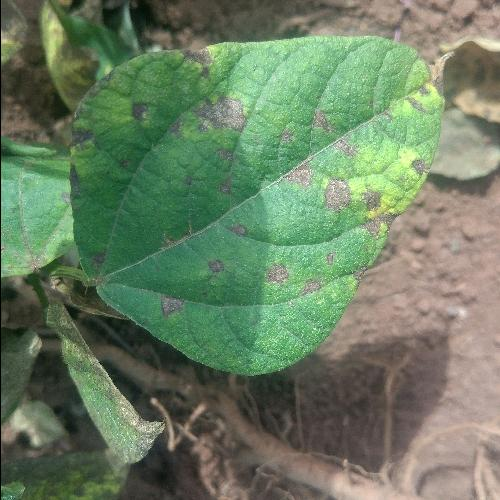hawar: (261, 56, 450, 303), (98, 34, 257, 202), (142, 222, 246, 324)
